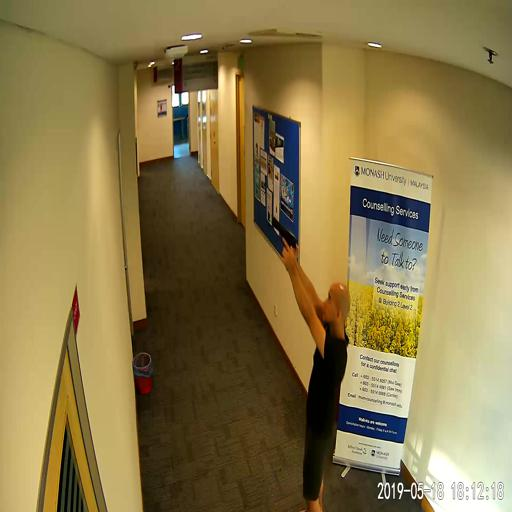pistol: (270, 214, 297, 267)
